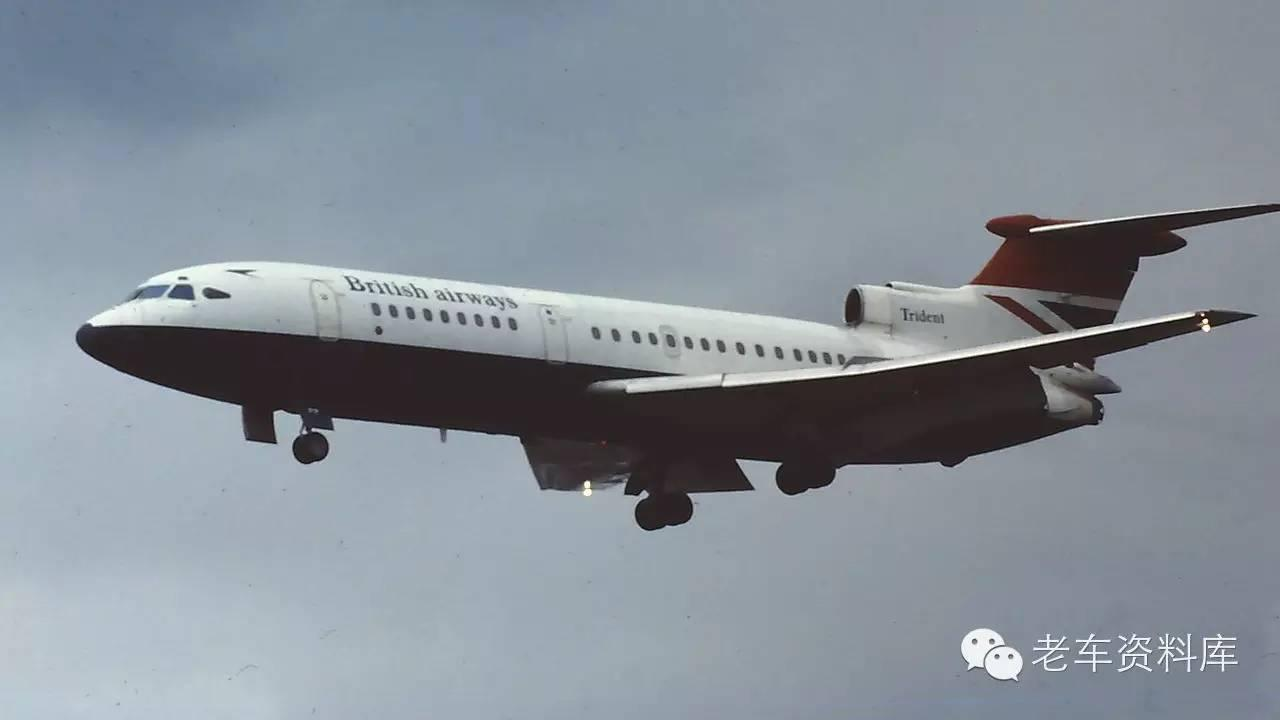airplane: (73, 193, 1280, 534)
